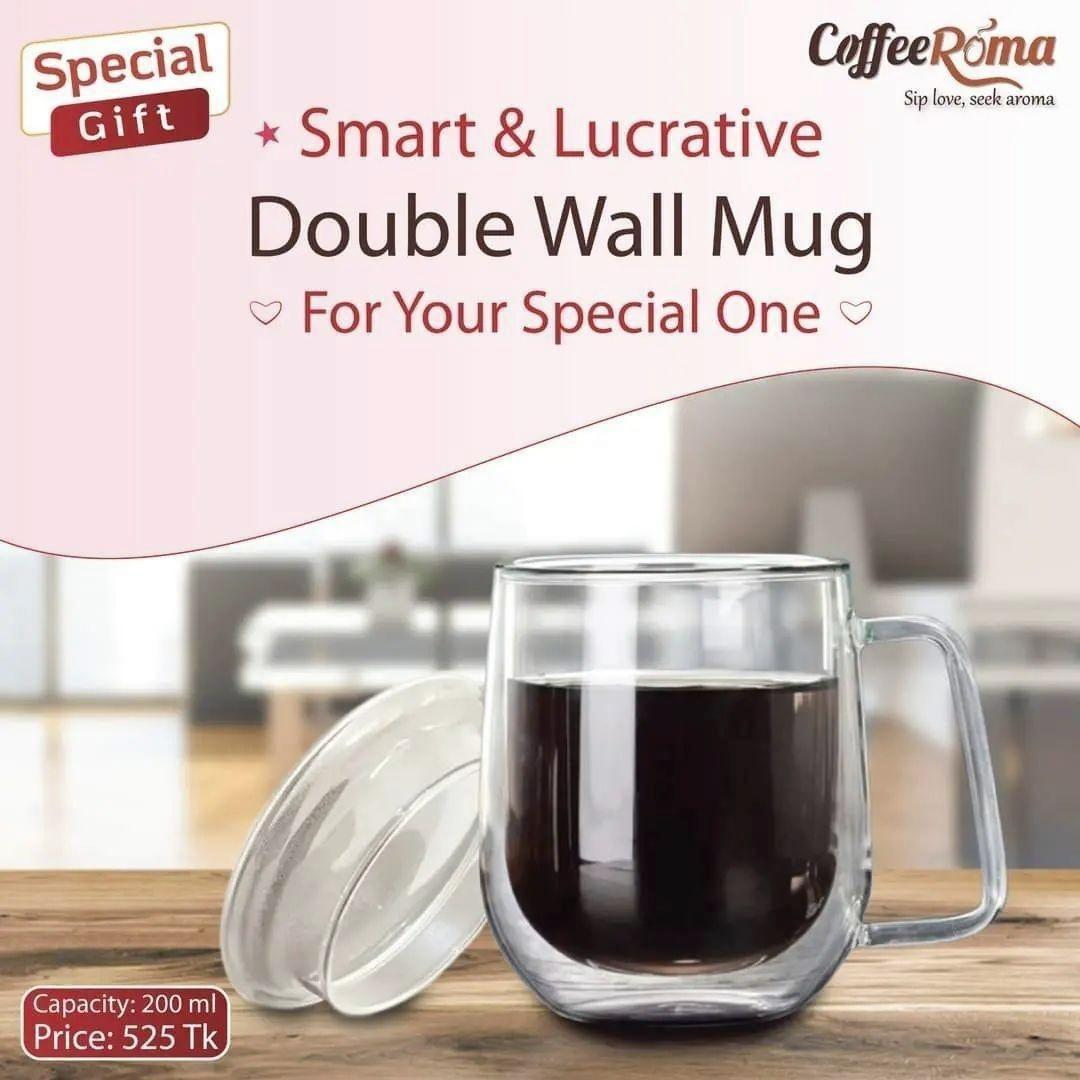glass-mug: (453, 539, 1021, 1057)
